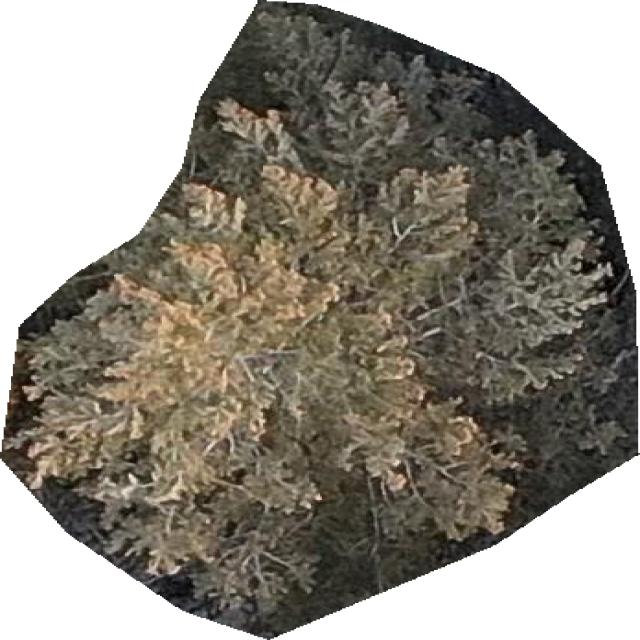spruce: (0, 0, 638, 639)
